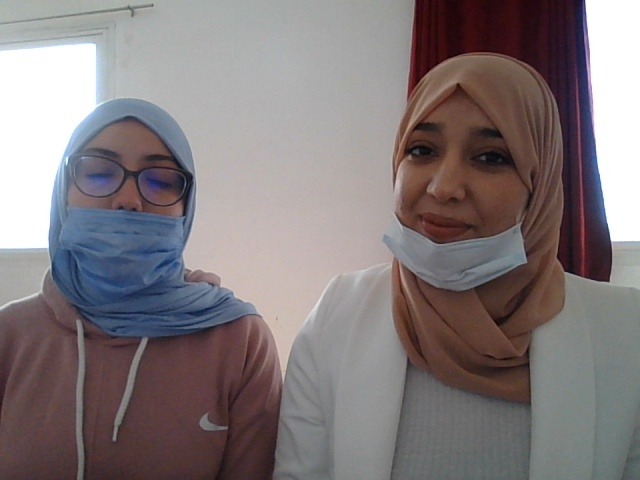mask_weared_incorrect: (375, 51, 556, 292), (38, 107, 205, 302)
